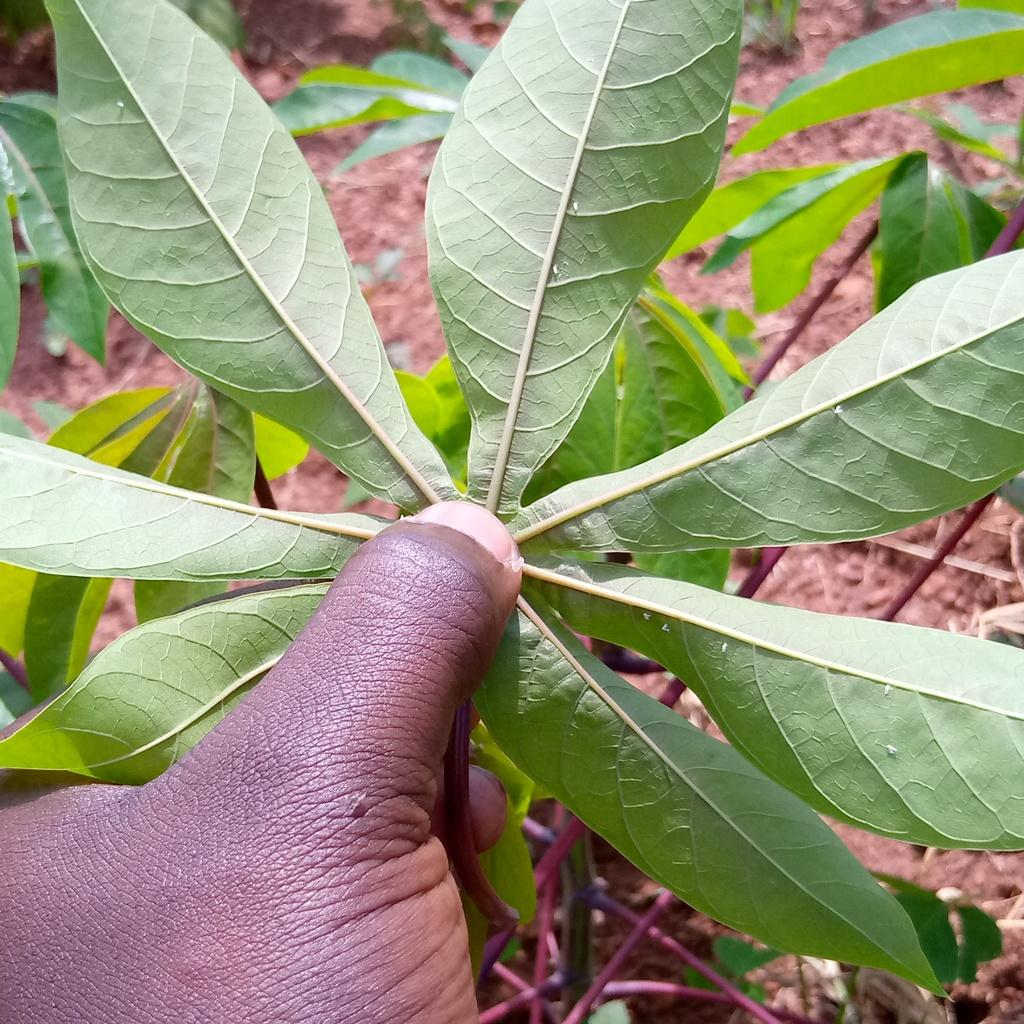adult: (886, 745, 897, 755), (833, 404, 844, 414), (661, 623, 670, 633), (572, 201, 579, 213), (884, 684, 891, 696), (116, 100, 124, 108), (643, 612, 651, 620), (721, 643, 728, 652), (552, 265, 558, 274)
